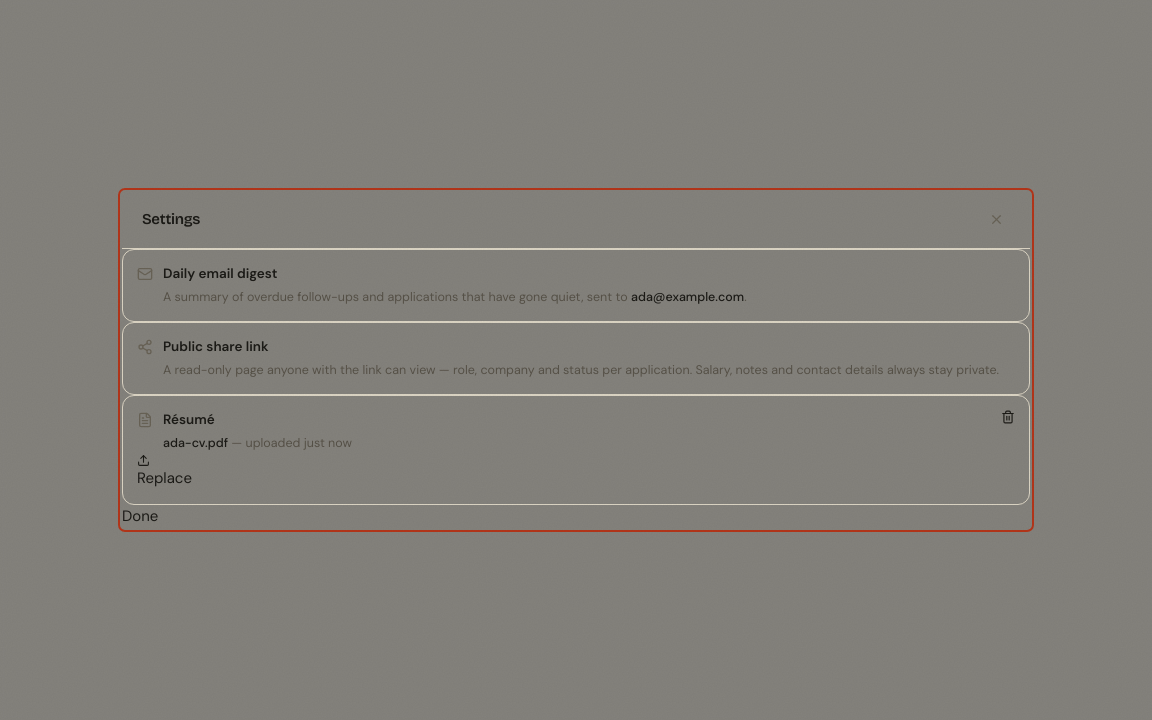
it: <SettingsDialog /> › removes the résumé
Expected: the text "ada-cv.pdf" is shown, [163,435,228,451]
Click the button named "Remove résumé" at (1008, 417), box [1001,410,1015,424]
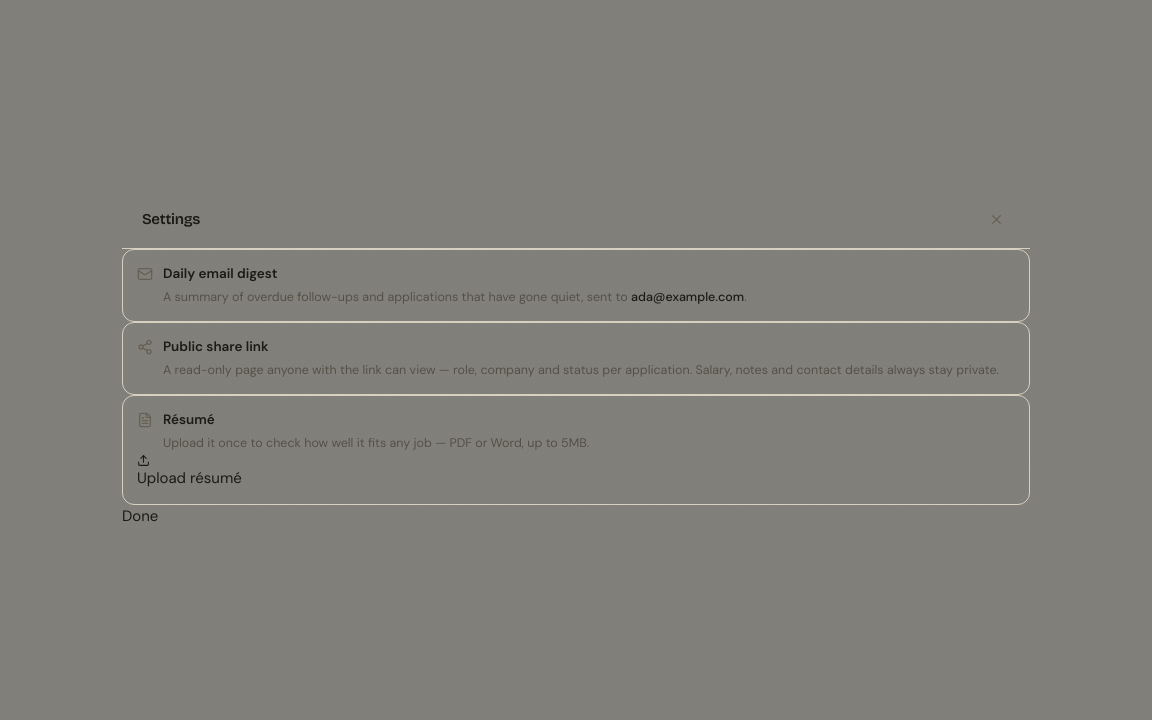
Now the text "ada-cv.pdf" is gone
